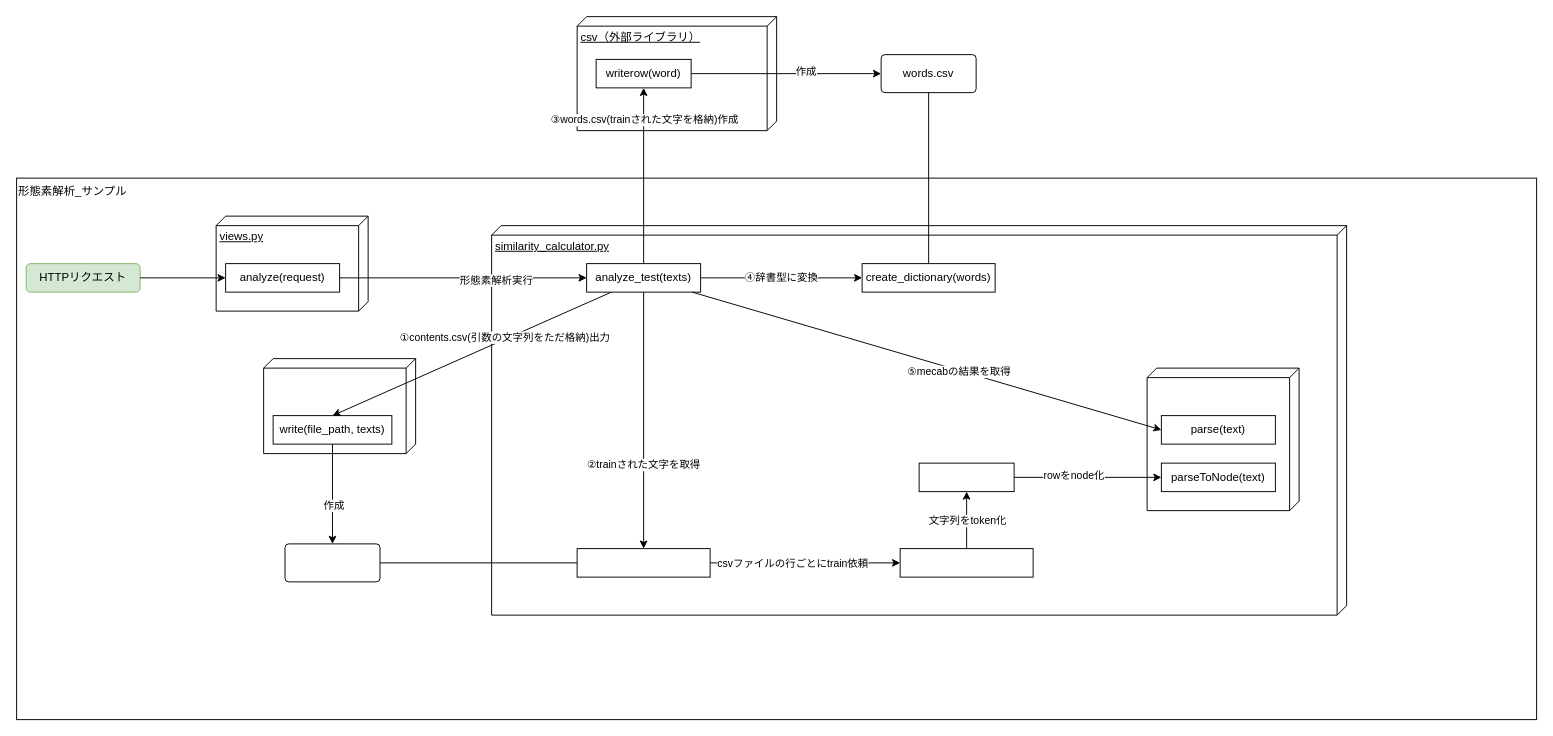
Image size: 1553x736. Some labels were removed from this diagram. The box of each missing label's shape, as (x1, y1, x2, y2) in pixels:
contents.csv: (284, 543, 380, 582)
csv_mediator.py: (263, 358, 416, 454)
get_word_contents(path): (576, 548, 710, 577)
get_words_main(row): (899, 548, 1033, 577)
mecab: (1146, 367, 1299, 511)
tokenize(row): (918, 462, 1014, 492)
